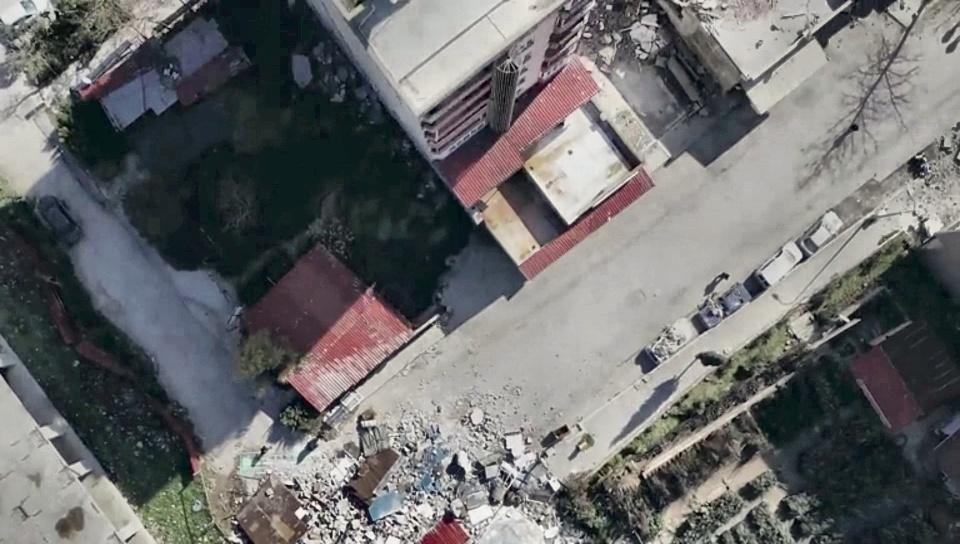kapali: (219, 298, 594, 543)
